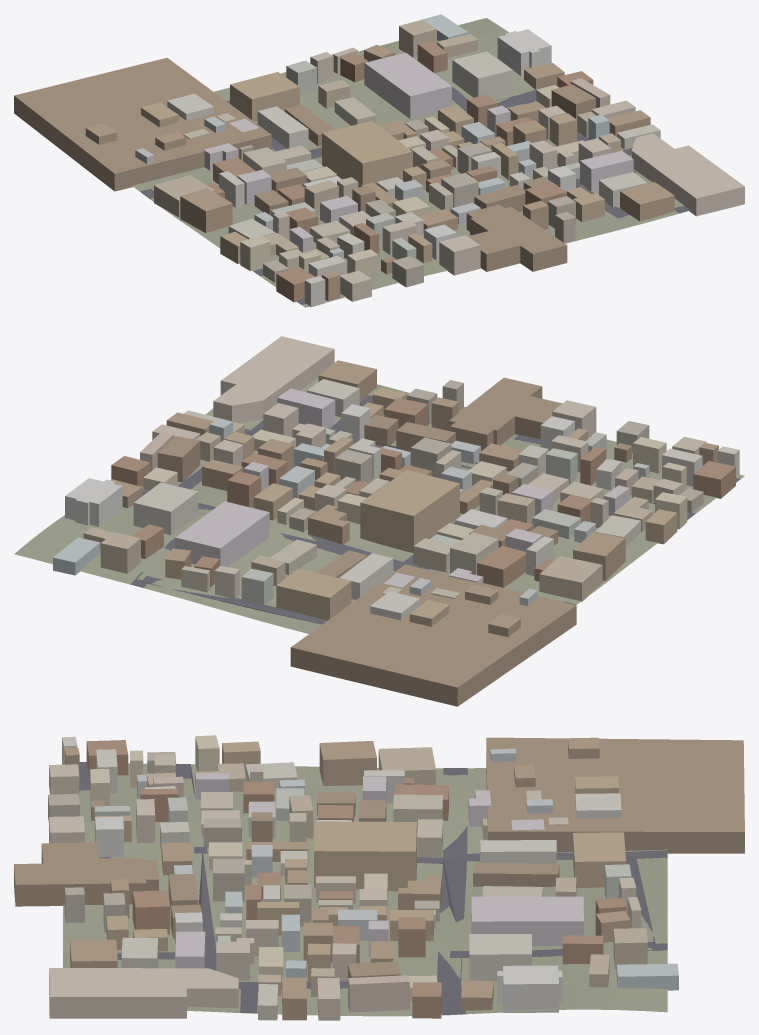
The model's file is chunk_6_5.glb.
3 views of the same model, one above another, from view 1: azimuth 30°, elevation 25°; view 2: azimuth 150°, elevation 25°; view 3: azimuth 270°, elevation 25° (orthographic). The views are drawn at different scales.
Visible parts, largest first — view 1: geometry_158, geometry_160, geometry_65, geometry_0, geometry_159, geometry_59, geometry_56, geometry_64, geometry_136, geometry_3, geometry_6, geometry_57 (+69 smaller); view 2: geometry_158, geometry_160, geometry_159, geometry_65, geometry_0, geometry_59, geometry_56, geometry_64, geometry_3, geometry_8, geometry_136, geometry_28 (+59 smaller); view 3: geometry_160, geometry_158, geometry_65, geometry_0, geometry_159, geometry_59, geometry_163, geometry_3, geometry_64, geometry_56, geometry_136, geometry_67 (+90 smaller).
Boxes of the visible parts, left/top/right/bottom form: geometry_158: left=14, top=58, right=271, bottom=191; geometry_160: left=132, top=18, right=690, bottom=307; geometry_65: left=631, top=133, right=744, bottom=216; geometry_0: left=466, top=204, right=567, bottom=271; geometry_159: left=322, top=121, right=412, bottom=187; geometry_59: left=364, top=52, right=451, bottom=119; geometry_56: left=230, top=72, right=299, bottom=121; geometry_64: left=452, top=51, right=512, bottom=97; geometry_136: left=180, top=188, right=232, bottom=233; geometry_3: left=497, top=29, right=551, bottom=76; geometry_6: left=620, top=182, right=674, bottom=221; geometry_57: left=257, top=106, right=308, bottom=148; geometry_158: left=290, top=564, right=576, bottom=706; geometry_160: left=14, top=378, right=744, bottom=633; geometry_159: left=360, top=470, right=459, bottom=553; geometry_65: left=213, top=336, right=334, bottom=422; geometry_0: left=449, top=377, right=562, bottom=450; geometry_59: left=175, top=501, right=269, bottom=566; geometry_56: left=276, top=569, right=351, bottom=620; geometry_64: left=133, top=482, right=198, bottom=535; geometry_3: left=65, top=478, right=122, bottom=526; geometry_8: left=539, top=556, right=602, bottom=601; geometry_136: left=573, top=532, right=625, bottom=580; geometry_28: left=477, top=545, right=525, bottom=587; geometry_160: left=63, top=763, right=667, bottom=1016; geometry_158: left=486, top=737, right=744, bottom=853; geometry_65: left=49, top=968, right=238, bottom=1018; geometry_0: left=14, top=842, right=158, bottom=906; geometry_159: left=314, top=821, right=416, bottom=891; geometry_59: left=471, top=896, right=583, bottom=946; geometry_163: left=437, top=768, right=467, bottom=1015; geometry_3: left=497, top=965, right=562, bottom=1012; geometry_64: left=469, top=934, right=531, bottom=981; geometry_56: left=573, top=832, right=625, bottom=888; geometry_136: left=319, top=741, right=376, bottom=785; geometry_67: left=348, top=975, right=409, bottom=1012.
Size of the model in its own units: 264 by 20.11 by 302.
